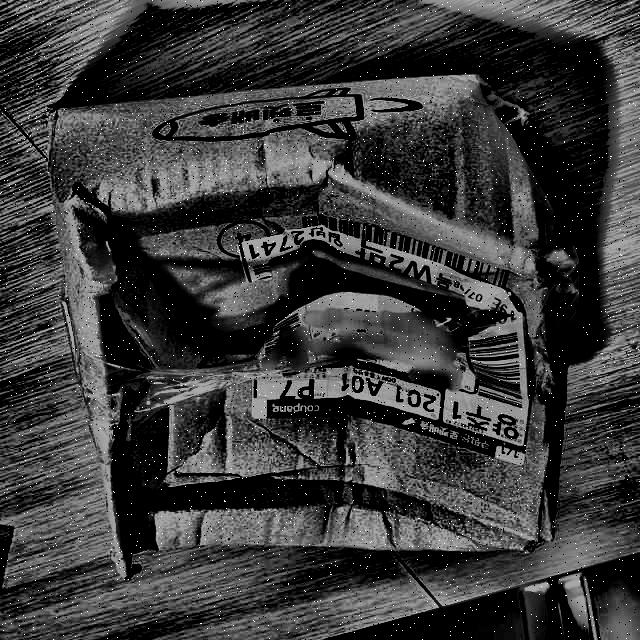box: (39, 69, 586, 585)
hole: (88, 270, 274, 366)
